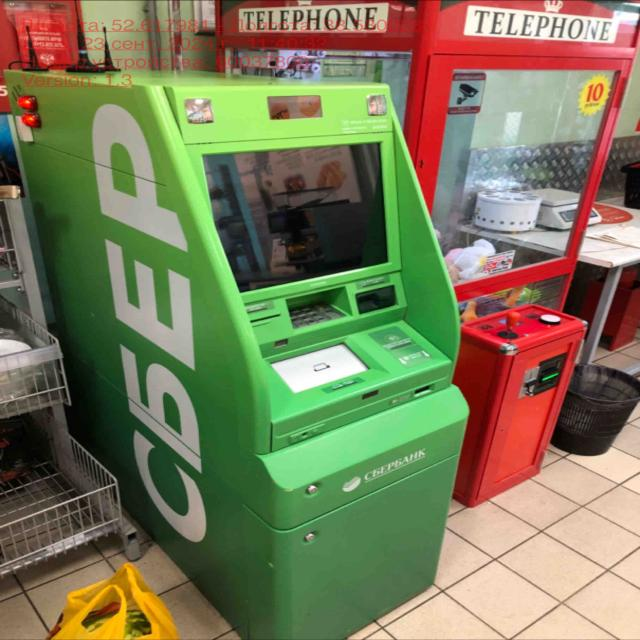bank: (5, 61, 472, 640)
